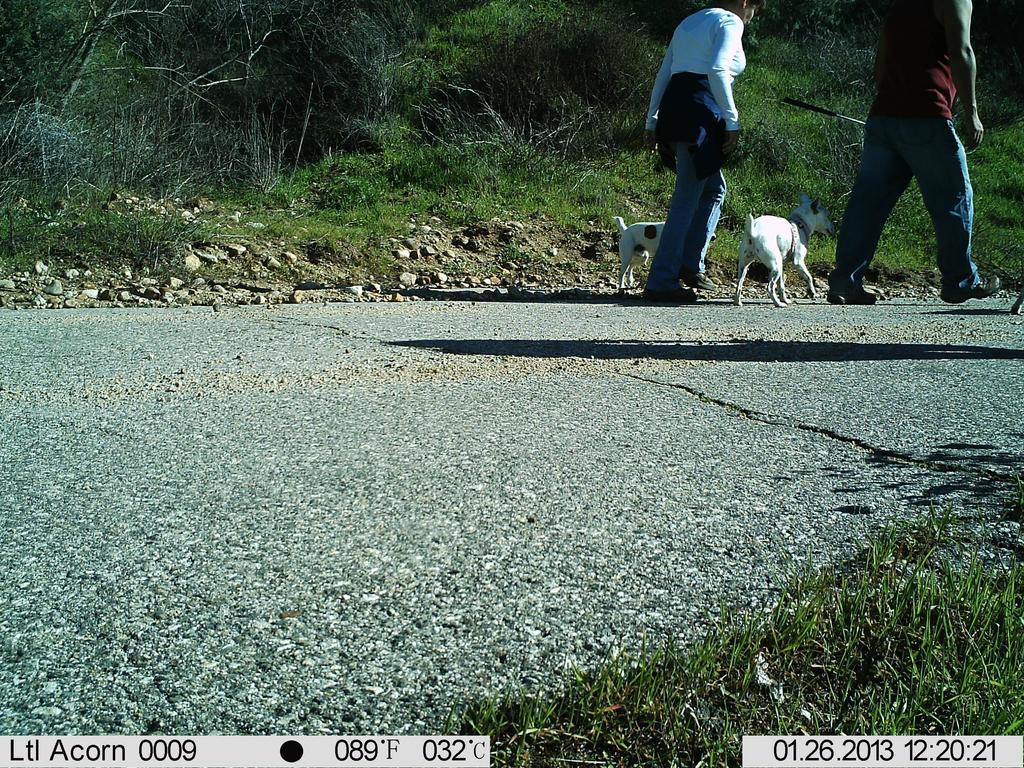dog: (725, 178, 843, 315), (600, 205, 723, 299)
